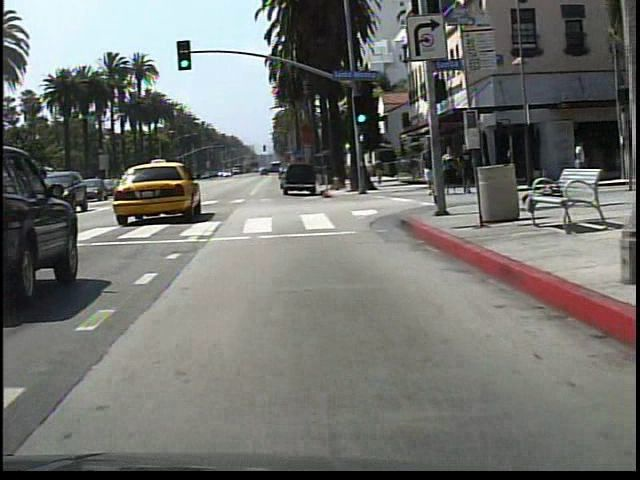person: (417, 141, 437, 199), (570, 138, 587, 184)
